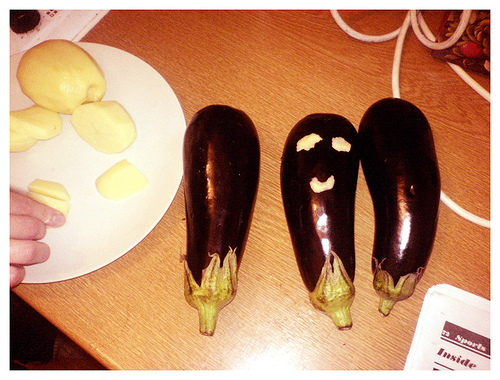eggplant: (273, 99, 366, 337), (172, 101, 263, 342), (352, 91, 433, 322)
